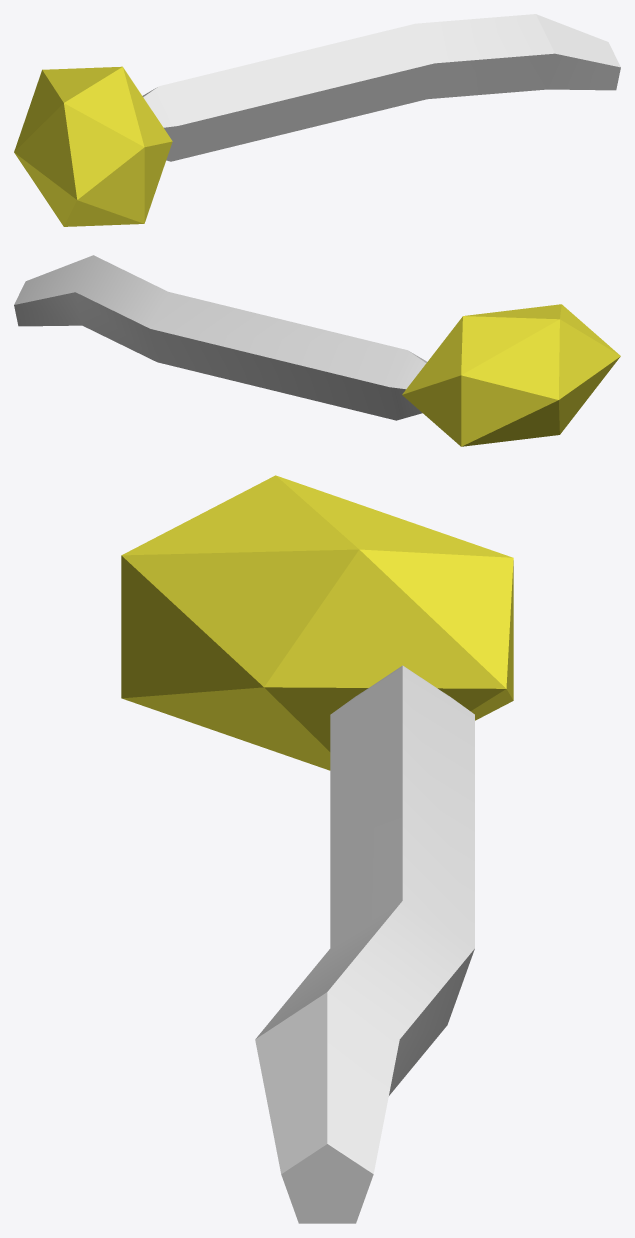
The model's file is 06_beanSprout.fbx.
3 views of the same model, one above another, from view 1: azimuth 30°, elevation 25°; view 2: azimuth 150°, elevation 25°; view 3: azimuth 270°, elevation 25° (orthographic). The views are drawn at different scales.
Visible parts, largest first — view 1: pPlatonic2; view 2: pPlatonic2; view 3: pPlatonic2.
Boxes of the visible parts, x1,y1,x2,y2 form: pPlatonic2: [14, 14, 620, 226]; pPlatonic2: [14, 255, 620, 446]; pPlatonic2: [121, 475, 513, 1223].
Size of the model in its own units: 1.95 by 0.4077 by 0.6054.
